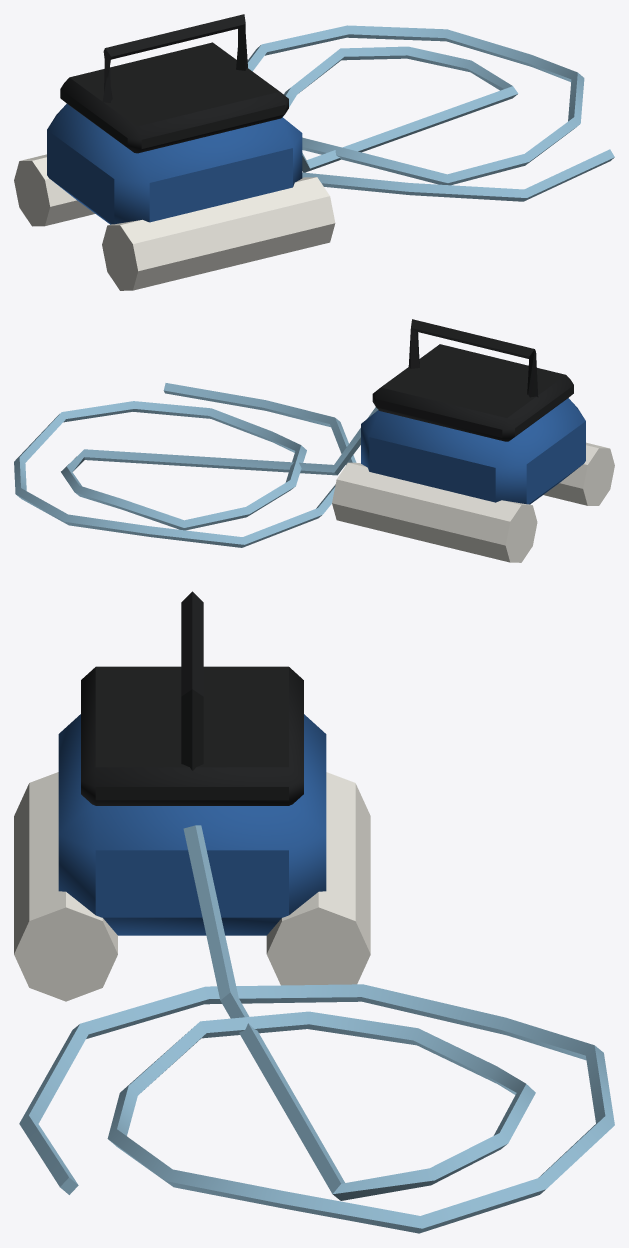
The model's file is pool_robot.glb.
3 views of the same model, one above another, from view 1: azimuth 30°, elevation 25°; view 2: azimuth 150°, elevation 25°; view 3: azimuth 270°, elevation 25° (orthographic). The views are drawn at different scales.
Parts seen in each view (by area): view 1: PoolRobot; view 2: PoolRobot; view 3: PoolRobot.
Boxes of the visible parts, <box> form: PoolRobot: <box>14,14,614,290</box>; PoolRobot: <box>14,319,614,562</box>; PoolRobot: <box>14,591,614,1233</box>.
Size of the model in its own units: 1.21 by 0.4339 by 0.8085.
